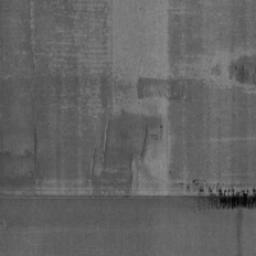Rolled pit: (92, 111, 162, 193), (0, 128, 34, 180), (137, 77, 185, 99), (209, 186, 256, 208), (229, 55, 256, 85)
